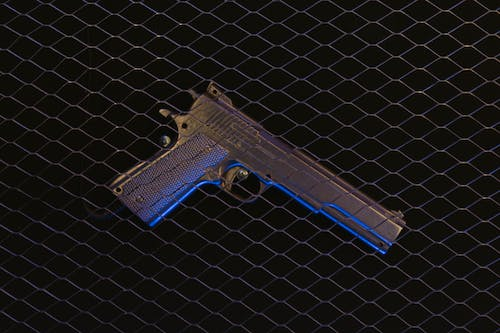gun: (102, 79, 409, 257)
